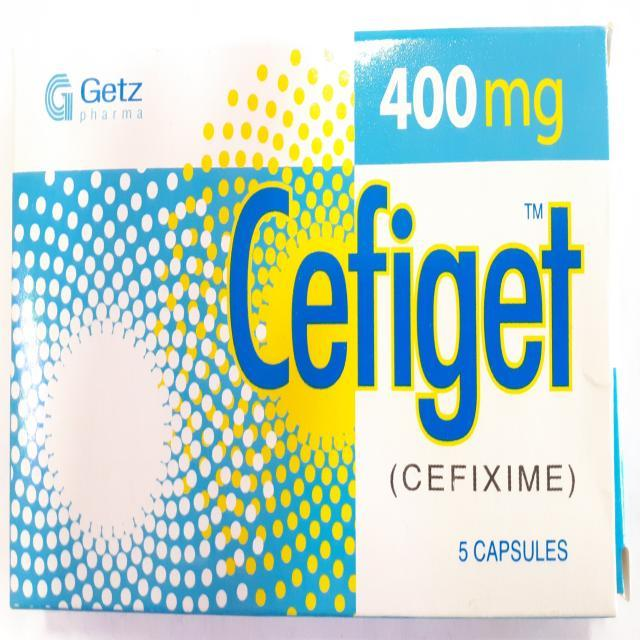drug-name: (231, 182, 584, 442)
